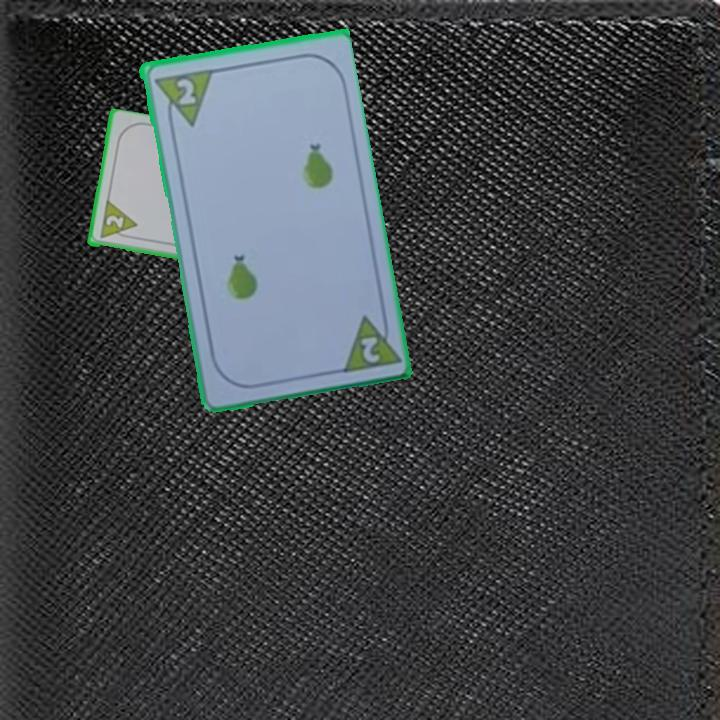2p: (149, 65, 214, 132), (96, 199, 139, 243), (357, 332, 383, 366)
